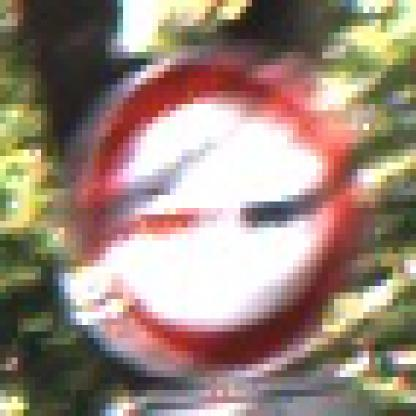No Overtaking: (42, 34, 382, 378)
